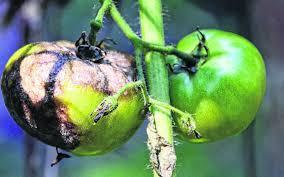tomato late blight: (123, 29, 267, 177), (2, 36, 152, 160)
